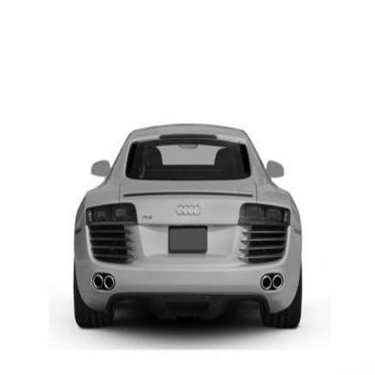car: (54, 115, 308, 331)
